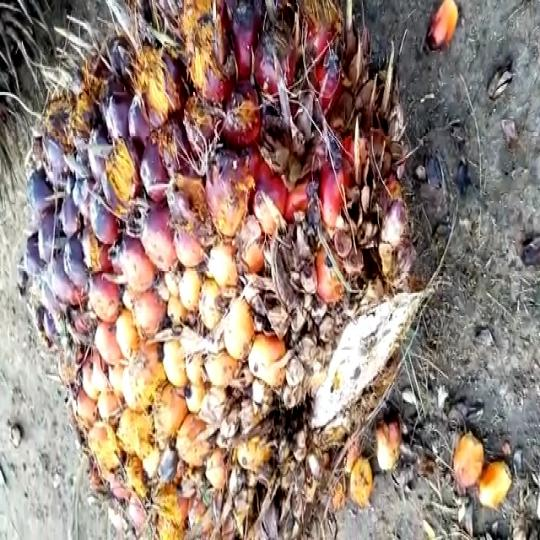masak: (28, 21, 462, 540)
